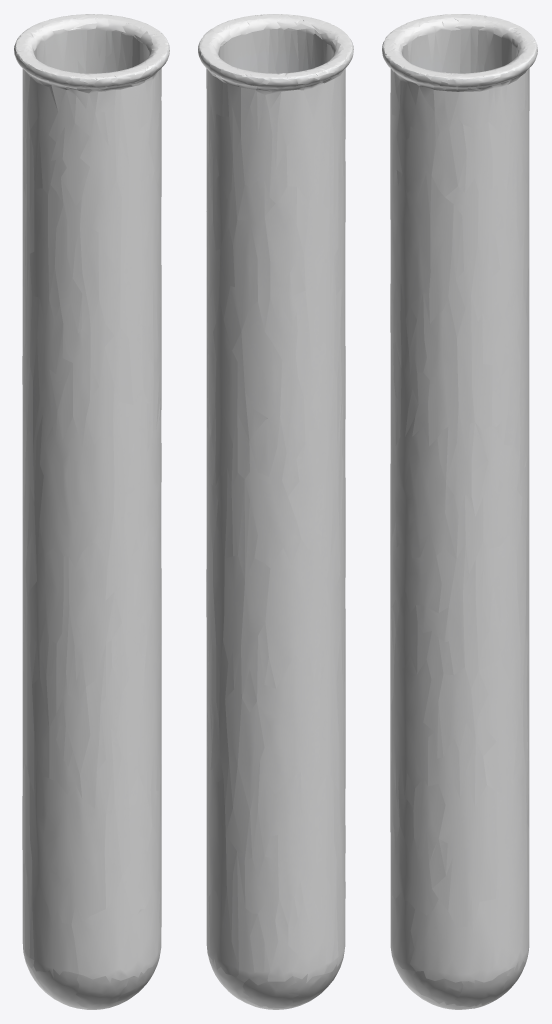
Rendered from Meshy_AI_Test_Tube_Remesh_0908183205_texture.glb.
3 renders of one model, left to right at view 1: azimuth 30°, elevation 25°; view 2: azimuth 150°, elevation 25°; view 3: azimuth 270°, elevation 25°, orthographic.
Parts seen in each view (by area): view 1: output_unwrapped; view 2: output_unwrapped; view 3: output_unwrapped.
Boxes of the visible parts, bbox=[...] form: output_unwrapped: bbox=[14, 14, 169, 1009]; output_unwrapped: bbox=[198, 14, 353, 1009]; output_unwrapped: bbox=[382, 14, 537, 1009].
Size of the model in its own units: 0.2811 by 1.9 by 0.281.
Materials: 1 (1 with a texture image).
